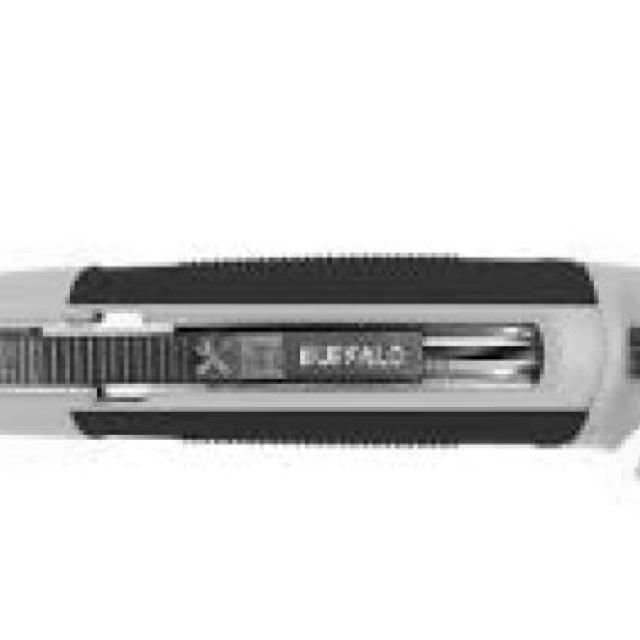estilete: (0, 255, 640, 448)
